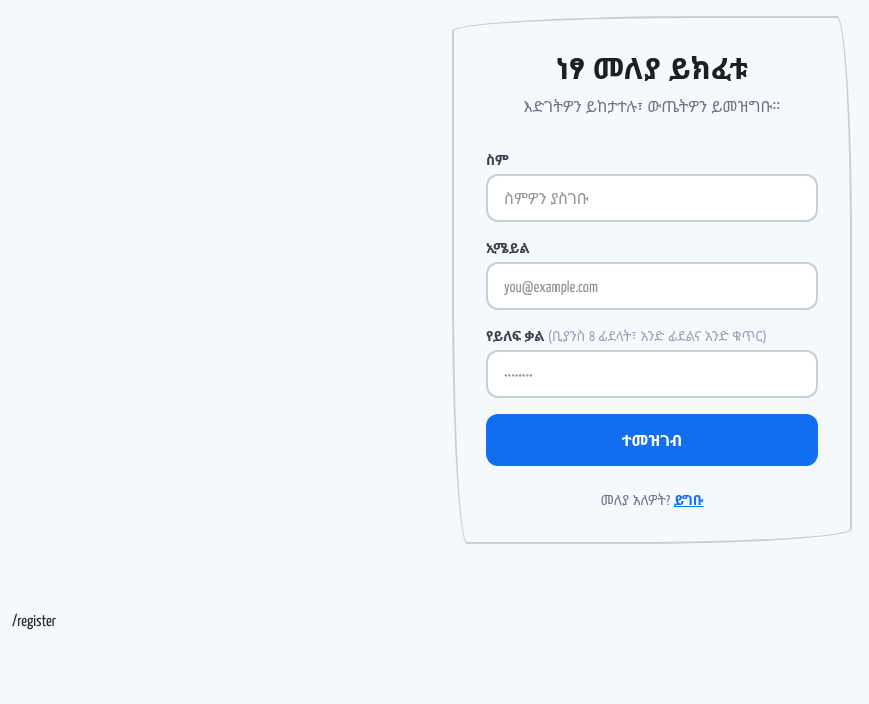
Test case: Register page › shows the server's message for a weak password and stays on the page
The width and height of the screenshot is (869, 704).
Type "Abebe Kebede" into the field labelled "ስም".
click(652, 198); type("Abebe Kebede")  # box x1=486 y1=174 x2=818 y2=222
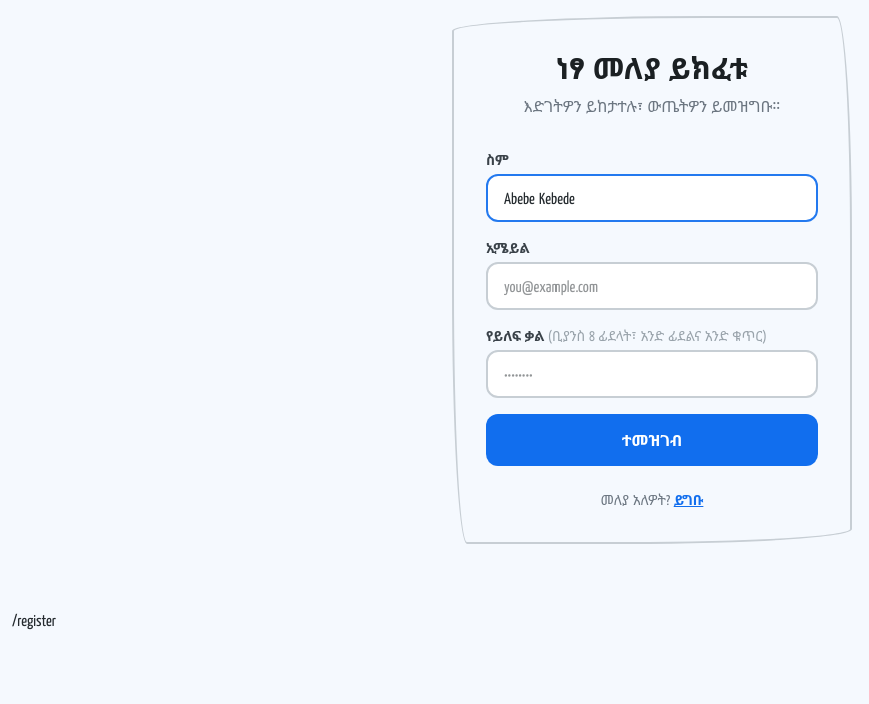
Type "a@example.com" into the field labelled "ኢሜይል".
click(652, 286); type("a@example.com")  # box x1=486 y1=262 x2=818 y2=310
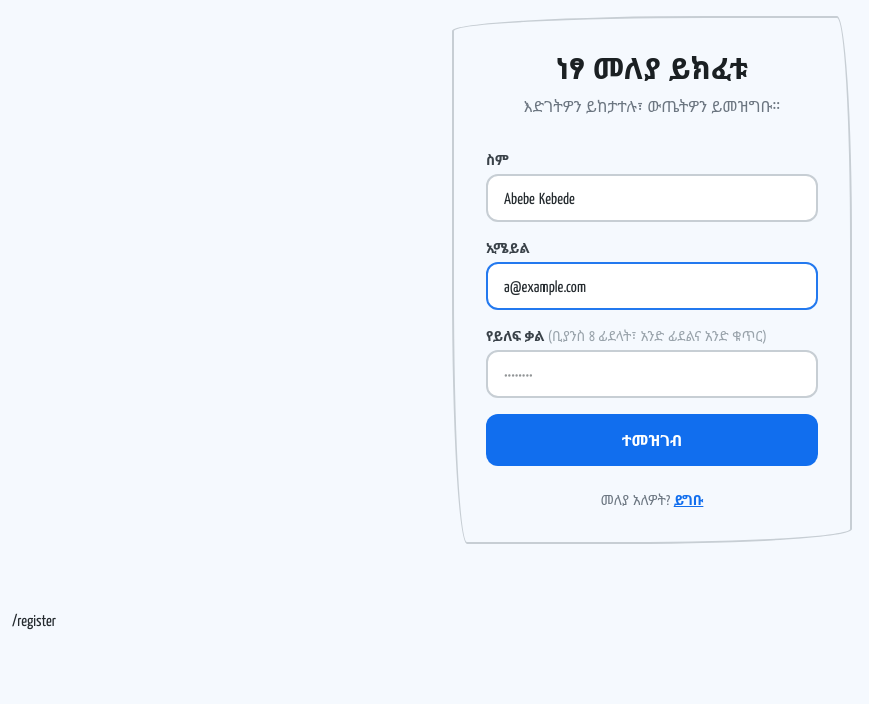
Type "onlyletters" into the password field labelled "የይለፍ ቃል (ቢያንስ 8 ፊደላት፣ አንድ ፊደልና አንድ ቁጥር)".
click(652, 374); type("onlyletters")  # box x1=486 y1=350 x2=818 y2=398
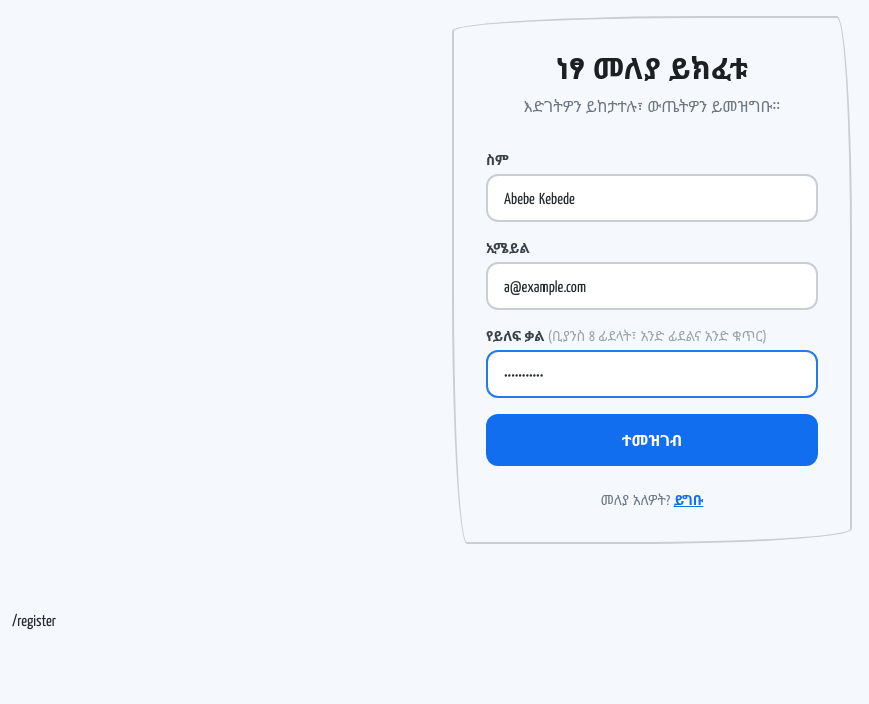
Click the button "ተመዝገብ".
click(652, 440)  # box x1=486 y1=414 x2=818 y2=466
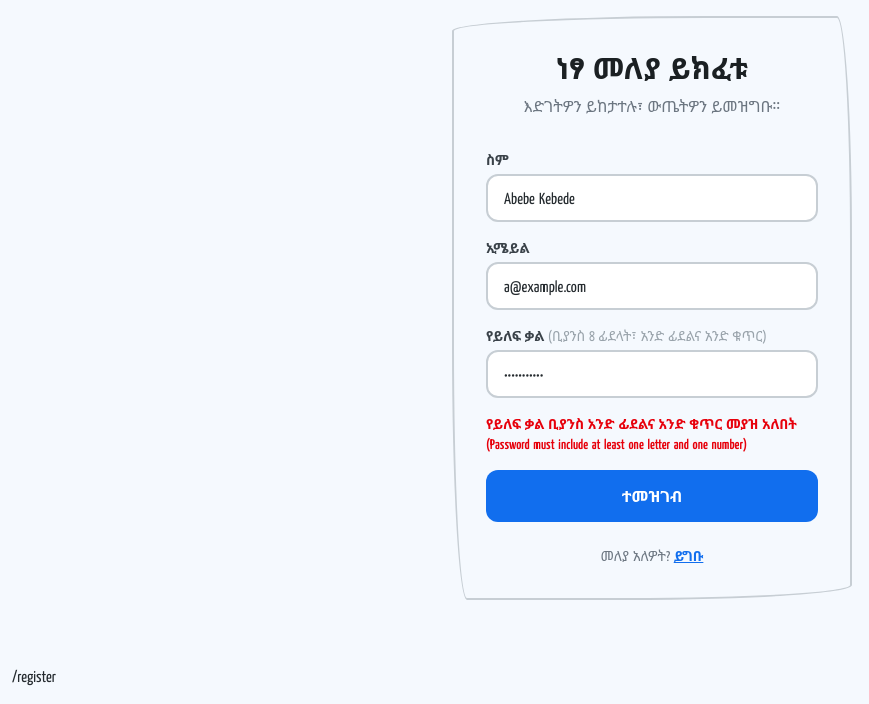
expect the text with test id "location" reads "/register": met, box x1=12 y1=665 x2=56 y2=687
expect the text "የይለፍ ቃል ቢያንስ አንድ ፊደልና አንድ ቁጥር መያዝ አለበት (Password must include at least one letter and one number)" is shown: met, box x1=486 y1=414 x2=797 y2=453
